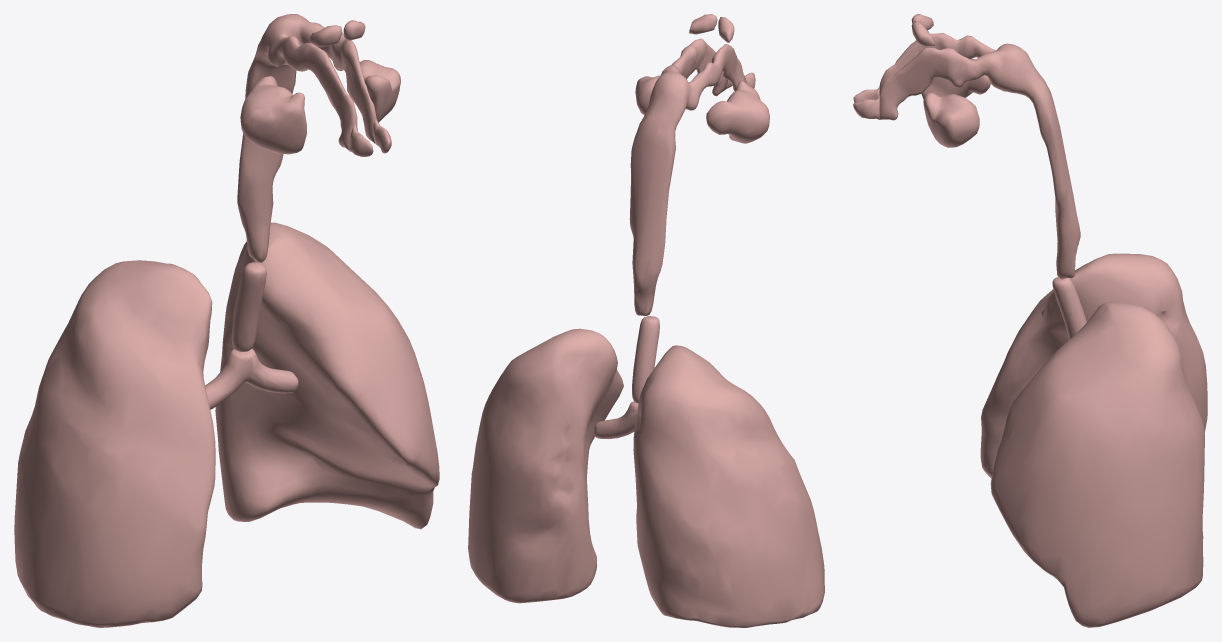
File: pediatric_child_5y_female.respiratory.LOD0.glb
The picture shows the model from 3 angles, left to right: view 1: azimuth 30°, elevation 25°; view 2: azimuth 150°, elevation 25°; view 3: azimuth 270°, elevation 25°; orthographic projection. The views are drawn at different scales.
Parts seen in each view (by area): view 1: PEDIATRIC.CHILD_5Y.FEMALE.RESPIRATORY.LUNG.R, PEDIATRIC.CHILD_5Y.FEMALE.RESPIRATORY.LUNG.L, PEDIATRIC.CHILD_5Y.FEMALE.RESPIRATORY.ET2, PEDIATRIC.CHILD_5Y.FEMALE.RESPIRATORY.BB1, PEDIATRIC.CHILD_5Y.FEMALE.RESPIRATORY.TRACHEA, PEDIATRIC.CHILD_5Y.FEMALE.RESPIRATORY.ET1; view 2: PEDIATRIC.CHILD_5Y.FEMALE.RESPIRATORY.LUNG.R, PEDIATRIC.CHILD_5Y.FEMALE.RESPIRATORY.LUNG.L, PEDIATRIC.CHILD_5Y.FEMALE.RESPIRATORY.ET2, PEDIATRIC.CHILD_5Y.FEMALE.RESPIRATORY.TRACHEA, PEDIATRIC.CHILD_5Y.FEMALE.RESPIRATORY.BB1; view 3: PEDIATRIC.CHILD_5Y.FEMALE.RESPIRATORY.LUNG.L, PEDIATRIC.CHILD_5Y.FEMALE.RESPIRATORY.ET2, PEDIATRIC.CHILD_5Y.FEMALE.RESPIRATORY.LUNG.R, PEDIATRIC.CHILD_5Y.FEMALE.RESPIRATORY.TRACHEA, PEDIATRIC.CHILD_5Y.FEMALE.RESPIRATORY.ET1.
Part boxes in pixels (x1,y1,x2,y2): PEDIATRIC.CHILD_5Y.FEMALE.RESPIRATORY.LUNG.R: (14, 260, 215, 627); PEDIATRIC.CHILD_5Y.FEMALE.RESPIRATORY.LUNG.L: (215, 222, 439, 529); PEDIATRIC.CHILD_5Y.FEMALE.RESPIRATORY.ET2: (237, 14, 400, 262); PEDIATRIC.CHILD_5Y.FEMALE.RESPIRATORY.BB1: (205, 348, 298, 409); PEDIATRIC.CHILD_5Y.FEMALE.RESPIRATORY.TRACHEA: (231, 262, 266, 351); PEDIATRIC.CHILD_5Y.FEMALE.RESPIRATORY.ET1: (348, 119, 391, 156); PEDIATRIC.CHILD_5Y.FEMALE.RESPIRATORY.LUNG.R: (633, 345, 824, 627); PEDIATRIC.CHILD_5Y.FEMALE.RESPIRATORY.LUNG.L: (468, 328, 623, 603); PEDIATRIC.CHILD_5Y.FEMALE.RESPIRATORY.ET2: (629, 14, 769, 315); PEDIATRIC.CHILD_5Y.FEMALE.RESPIRATORY.TRACHEA: (632, 316, 659, 403); PEDIATRIC.CHILD_5Y.FEMALE.RESPIRATORY.BB1: (594, 401, 638, 439); PEDIATRIC.CHILD_5Y.FEMALE.RESPIRATORY.LUNG.L: (990, 302, 1204, 627); PEDIATRIC.CHILD_5Y.FEMALE.RESPIRATORY.ET2: (879, 14, 1080, 279); PEDIATRIC.CHILD_5Y.FEMALE.RESPIRATORY.LUNG.R: (980, 253, 1207, 478); PEDIATRIC.CHILD_5Y.FEMALE.RESPIRATORY.TRACHEA: (1052, 277, 1086, 339); PEDIATRIC.CHILD_5Y.FEMALE.RESPIRATORY.ET1: (853, 86, 879, 119).
Bounding box in the file's own units: 0.172 × 0.2592 × 0.1555.
